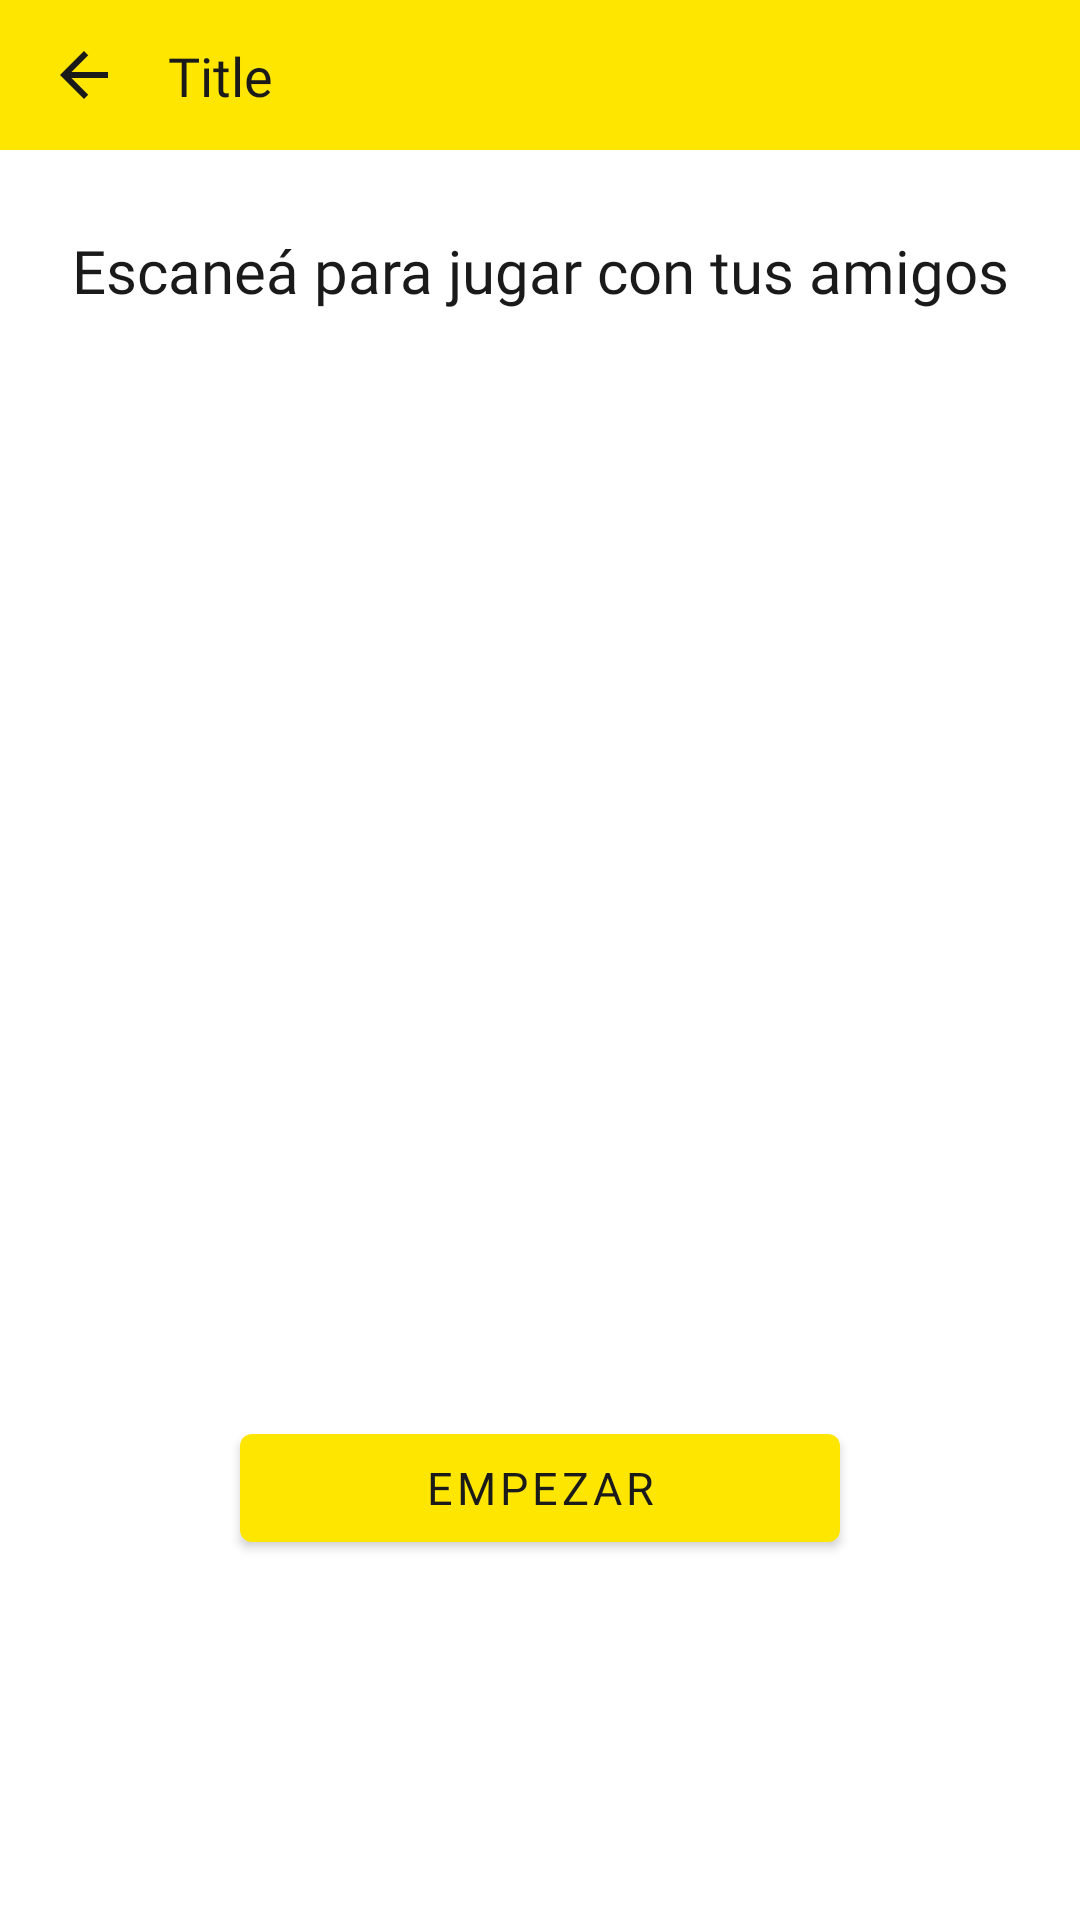

Screen size 1080w x 1920h. Icon name, then its box in pixels as (x1, y1, x2, y2):
arrow back: (60, 51, 108, 99)
